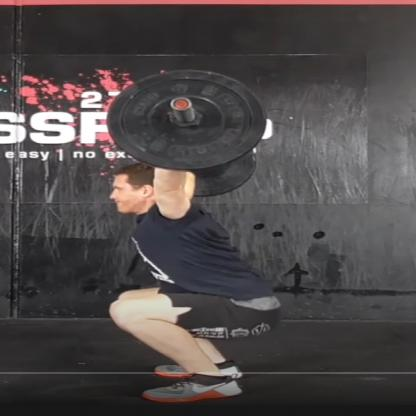Barbell: (102, 69, 272, 173)
